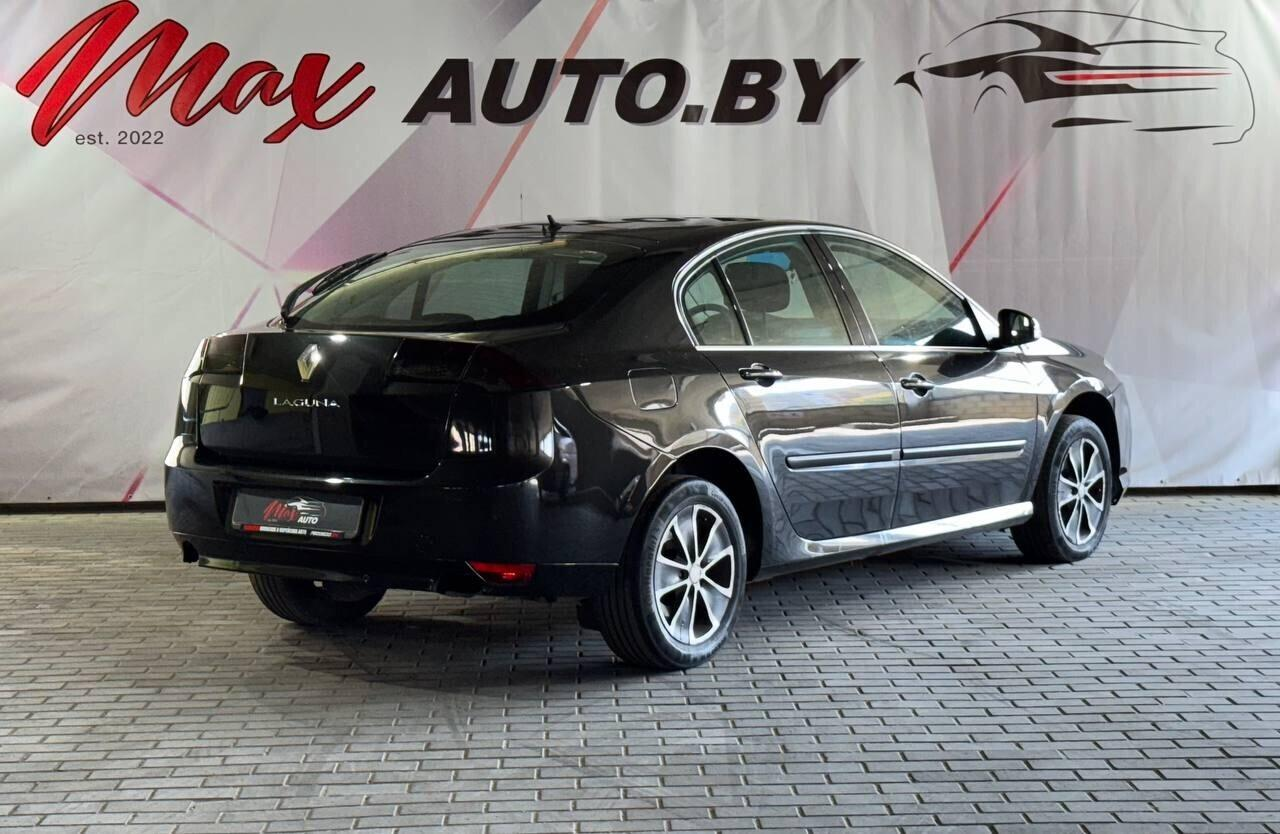Laguna_2007-2011: (165, 220, 1131, 668)
